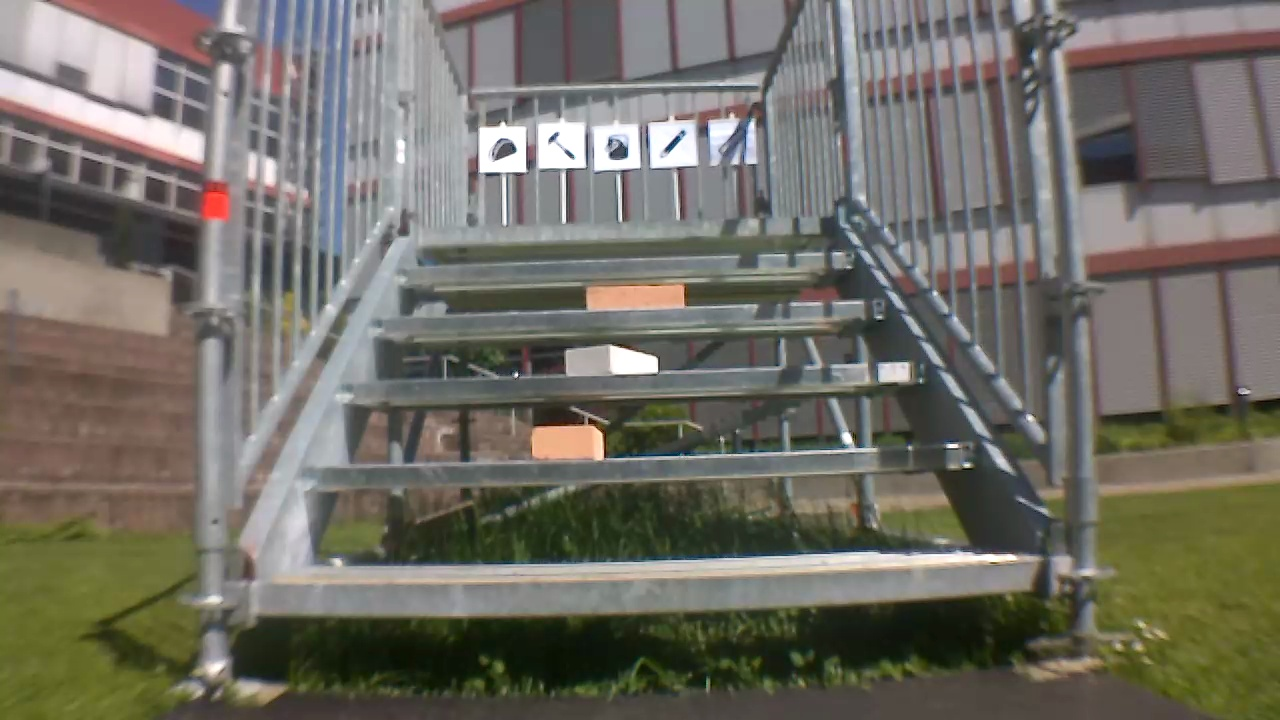brick: (524, 422, 608, 463), (581, 283, 683, 316), (564, 343, 662, 377)
edge: (260, 560, 1054, 623), (298, 436, 989, 493), (339, 357, 935, 407), (353, 298, 889, 342), (393, 253, 855, 289), (408, 215, 837, 252)
stairs: (180, 0, 1099, 697)
steps: (224, 209, 1040, 625)
